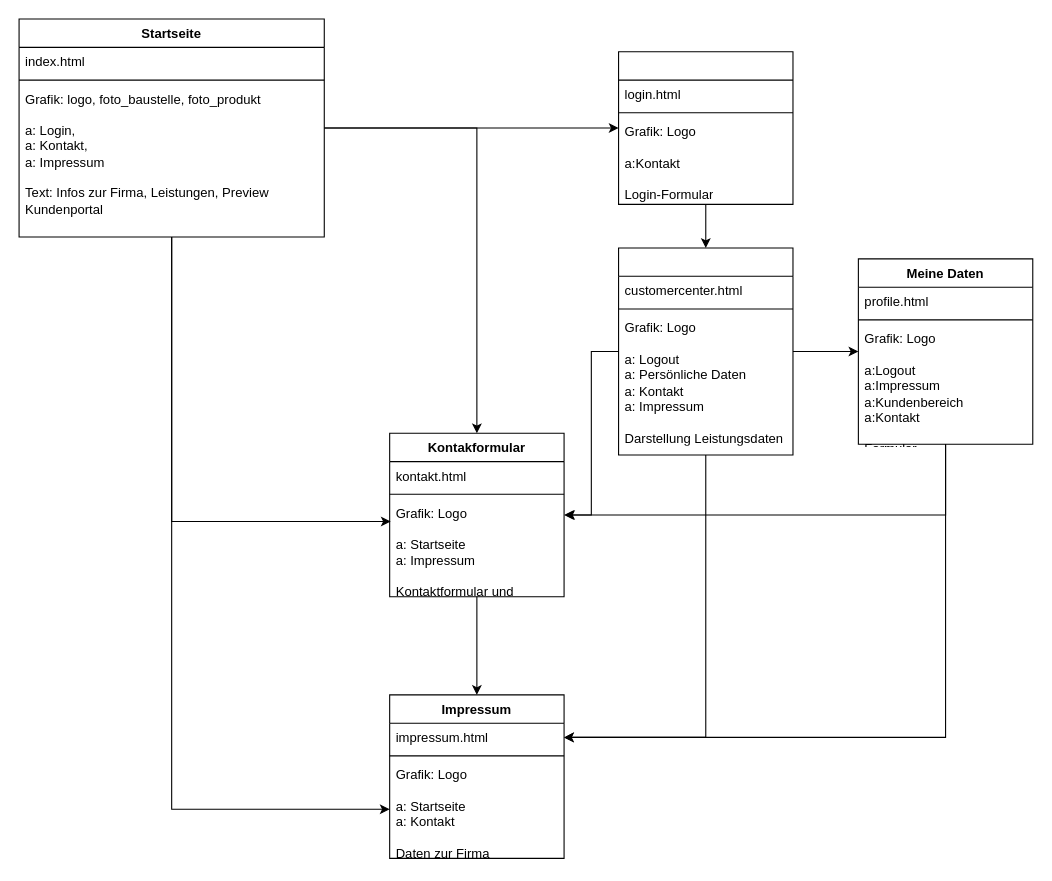
The diagram is 1052 pixels wide and 881 high, and some of its shapes have lost their labels. Each missing label, with the box of its shape:
Kundenbereich: (617, 247, 793, 455)
Loginseite: (617, 51, 793, 204)
